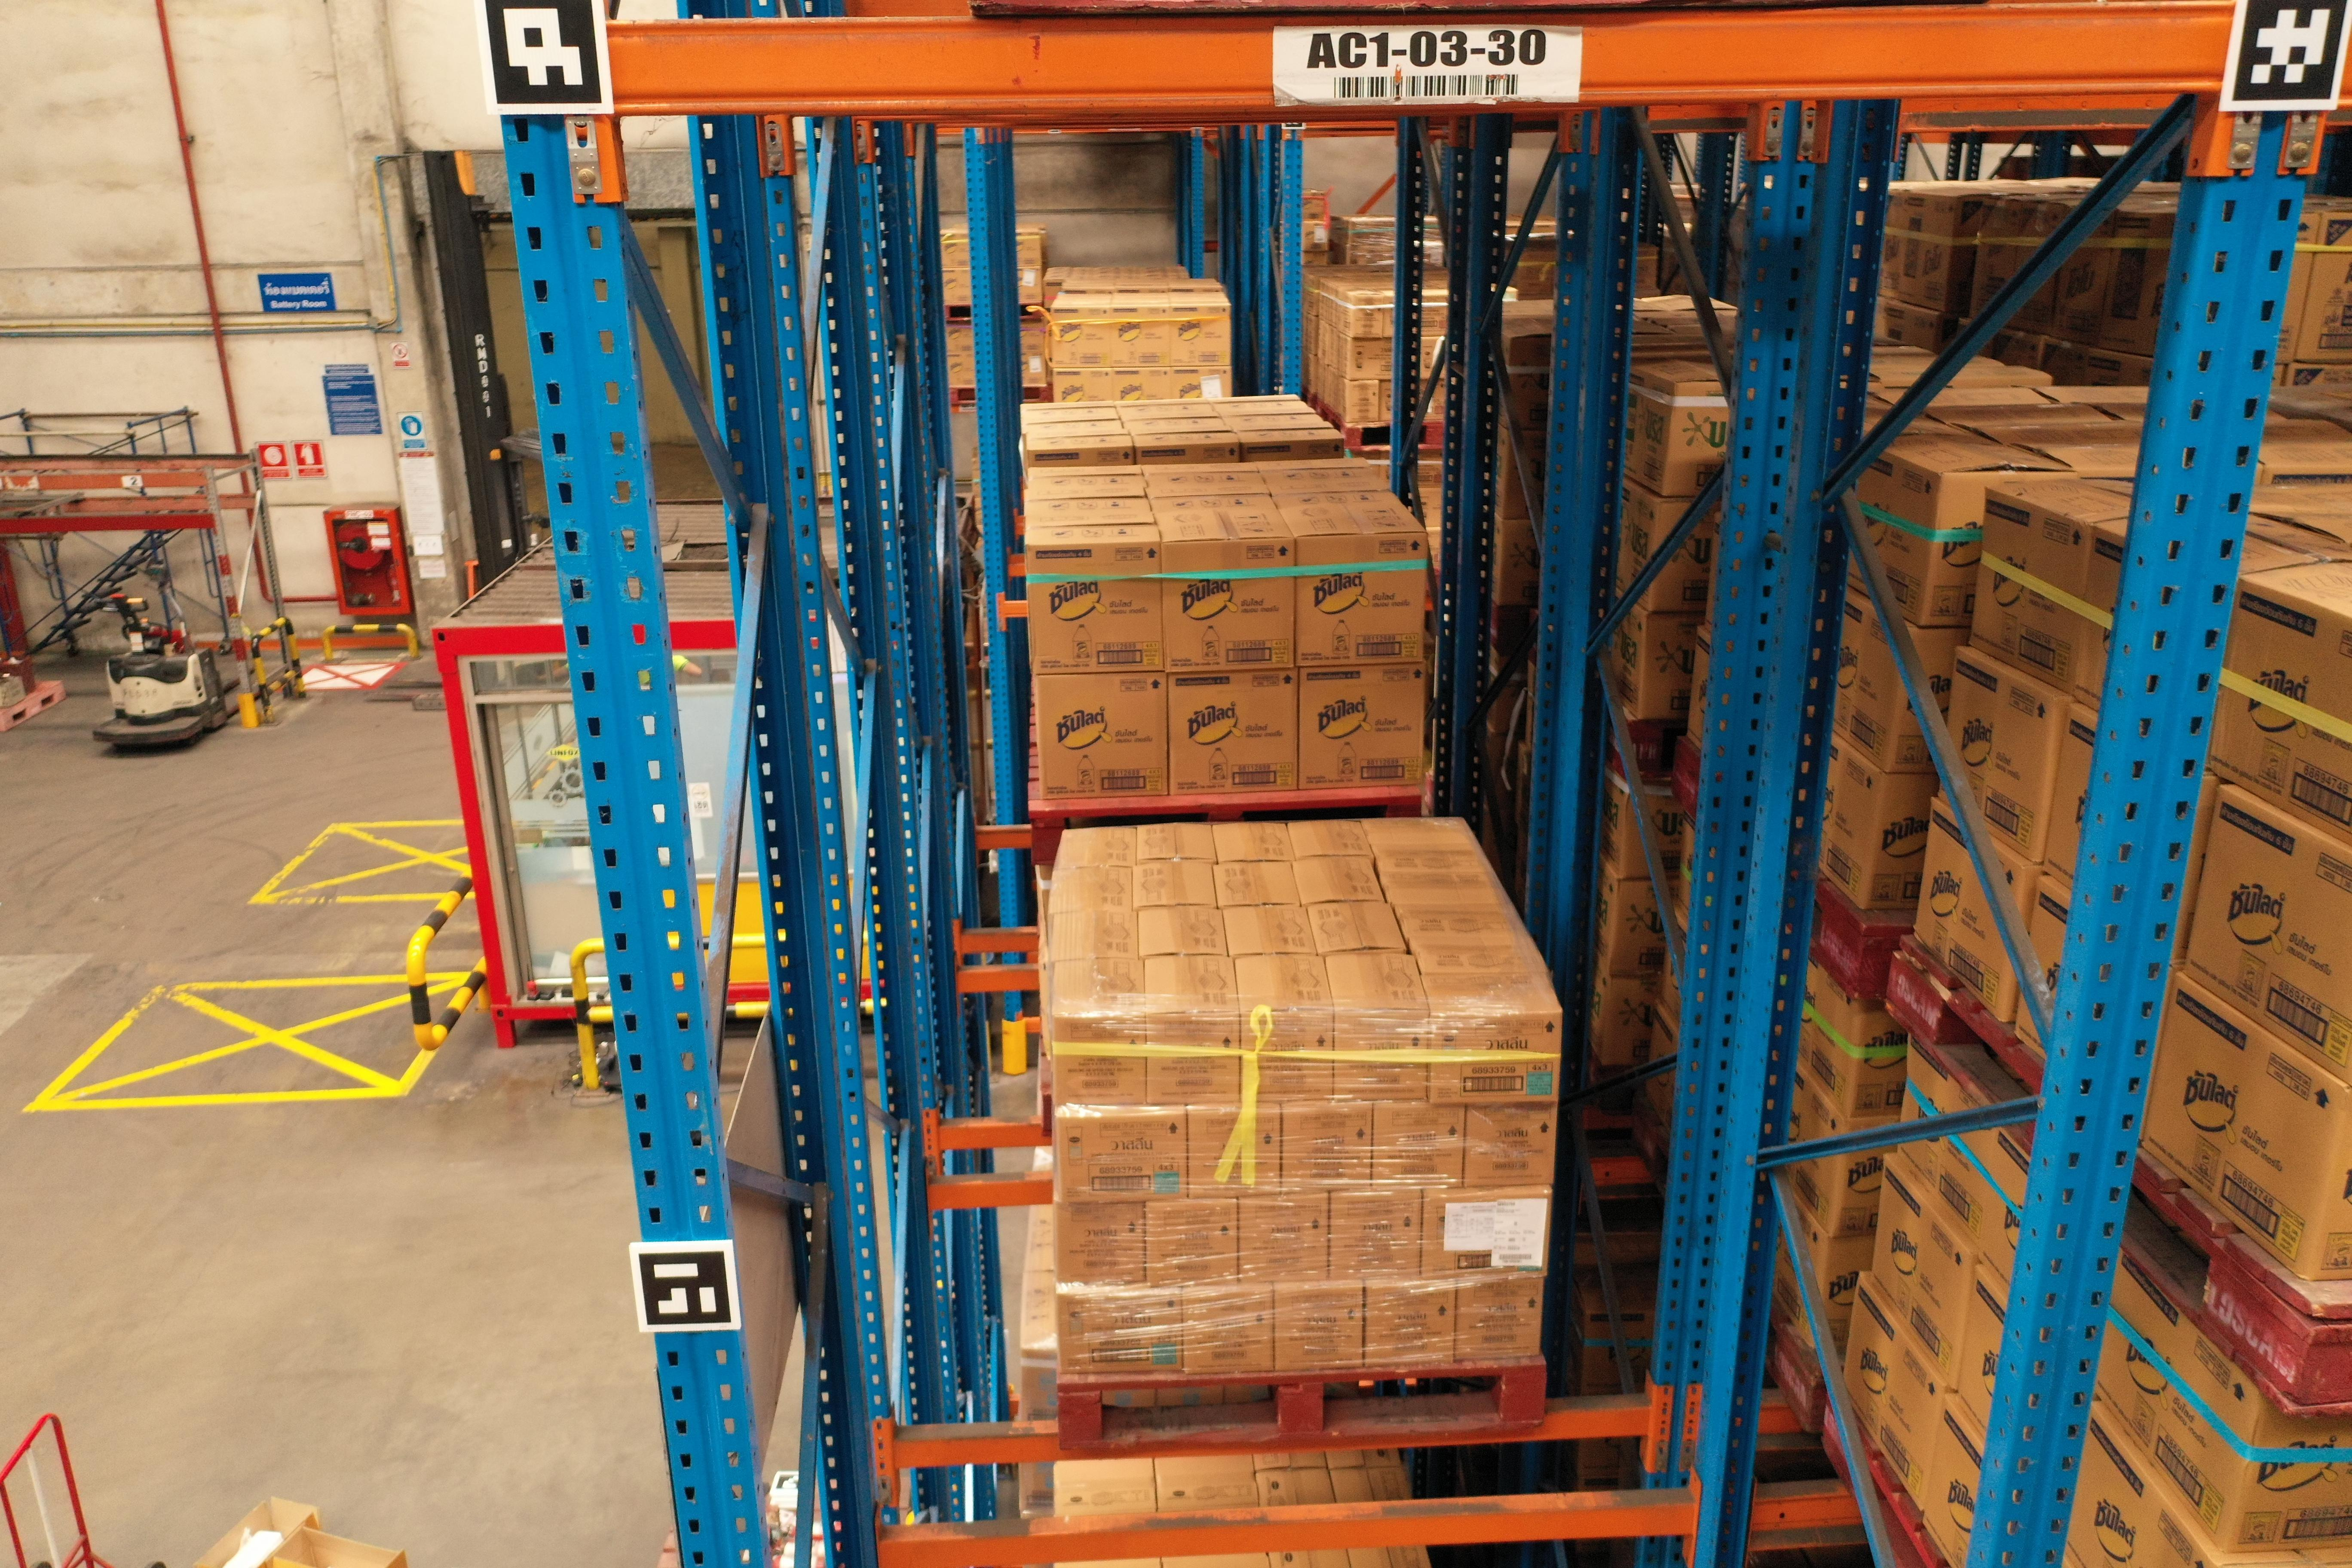2: (1160, 532, 1297, 674), (1027, 544, 1169, 675), (1295, 532, 1426, 668), (1034, 674, 1171, 801), (1165, 672, 1300, 793), (1297, 668, 1426, 789)
box: (1053, 1111, 1190, 1206), (1426, 1011, 1557, 1102), (1424, 1190, 1550, 1283), (1059, 1291, 1185, 1377), (1053, 1015, 1151, 1113), (1188, 1106, 1283, 1199), (1283, 1104, 1375, 1199), (1144, 1015, 1241, 1106), (1328, 1195, 1424, 1286), (1333, 1011, 1428, 1102), (1235, 1199, 1333, 1286), (1458, 1106, 1557, 1192), (1374, 1104, 1465, 1195), (1144, 1206, 1241, 1291), (1241, 1011, 1333, 1099), (1053, 1204, 1146, 1291), (1367, 1284, 1459, 1370), (1185, 1291, 1276, 1377), (1274, 1291, 1368, 1372), (1458, 1272, 1540, 1363)
